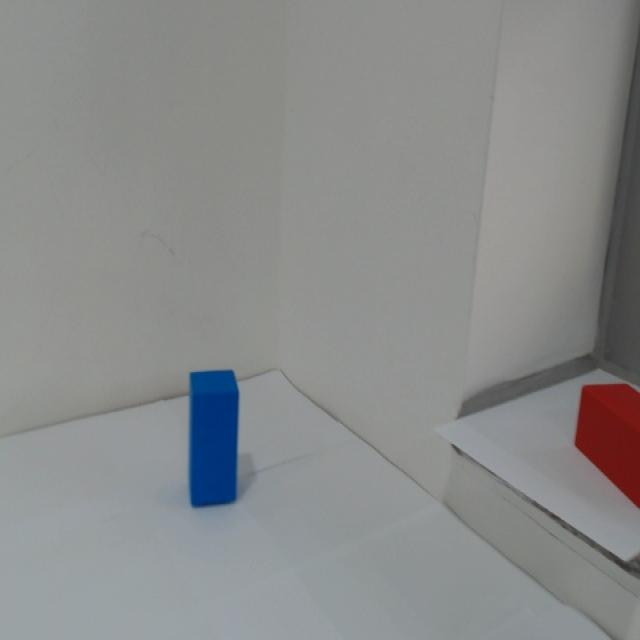cube: (177, 362, 266, 541)
